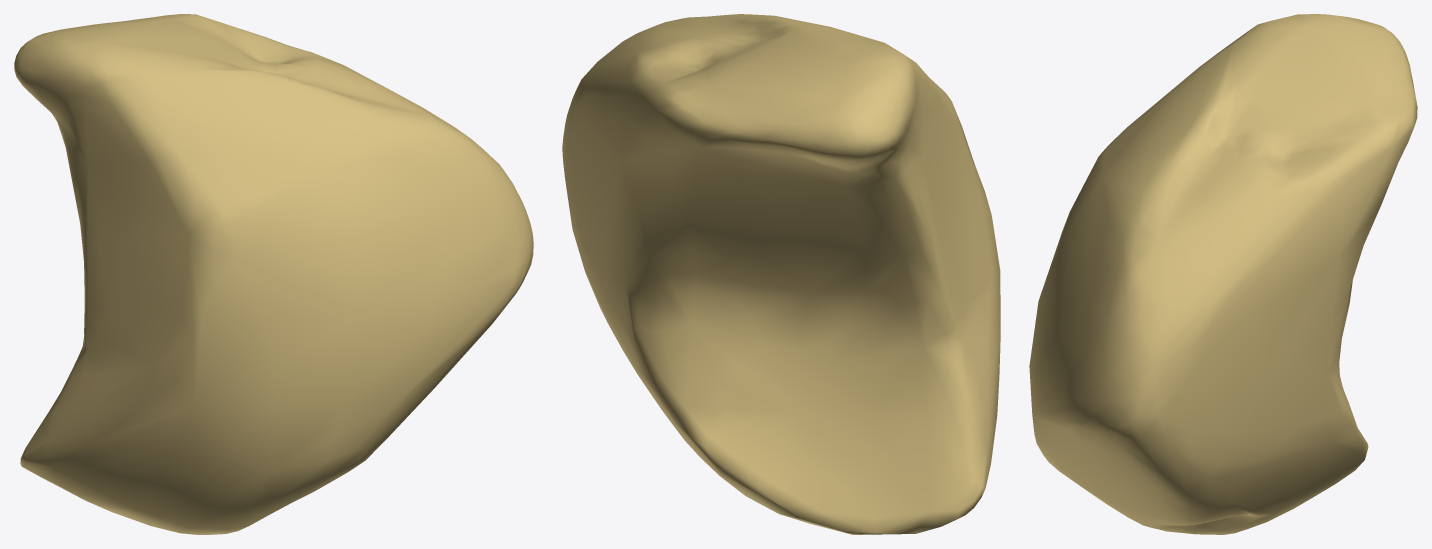
3 renders of one model, left to right at view 1: azimuth 30°, elevation 25°; view 2: azimuth 150°, elevation 25°; view 3: azimuth 270°, elevation 25°, orthographic. The views are drawn at different scales.
Visible parts, largest first — view 1: 右侧月骨; view 2: 右侧月骨; view 3: 右侧月骨.
Part boxes in pixels (bbox=[...]): 右侧月骨: bbox=[14, 14, 533, 534]; 右侧月骨: bbox=[562, 14, 1000, 534]; 右侧月骨: bbox=[1029, 14, 1417, 534].
Size of the model in its own units: 0.0252 by 0.0245 by 0.0188.
